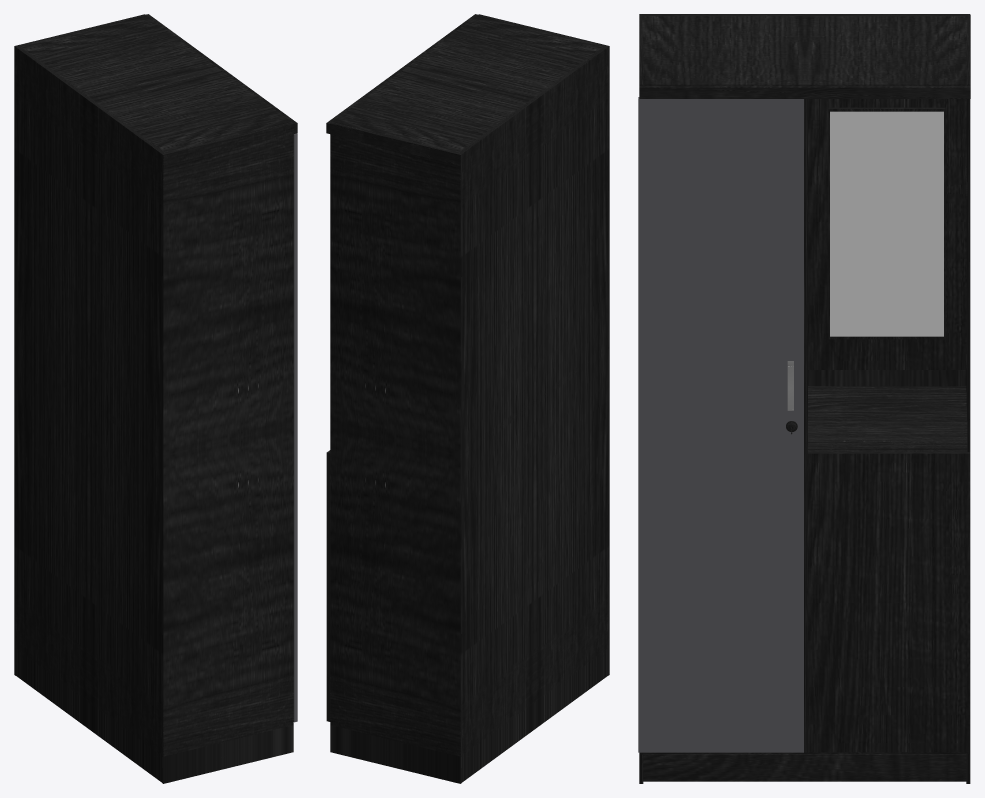
File: lemaribesar bl.fbx
3 renders of one model, left to right at view 1: azimuth 30°, elevation 25°; view 2: azimuth 150°, elevation 25°; view 3: azimuth 270°, elevation 25°, orthographic. The views are drawn at different scales.
Visible parts, largest first — view 1: Cube.001, Cube.010, Cube.002; view 2: Cube.001, Cube.002, Cube.011; view 3: Cube.010, Cube.011, Cube.001, kaca, Cube.005, Cube.007, Cube, Cube.002, Cube.003.
Boxes of the visible parts, box(x1,y1,x2,y2) form: Cube.001: box(14, 14, 293, 783); Cube.010: box(293, 133, 297, 722); Cube.002: box(146, 14, 297, 133); Cube.001: box(330, 14, 609, 783); Cube.002: box(326, 14, 477, 165); Cube.011: box(326, 450, 330, 721); Cube.010: box(638, 97, 803, 752); Cube.011: box(808, 452, 970, 752); Cube.001: box(639, 14, 970, 783); kaca: box(828, 107, 945, 339); Cube.005: box(808, 99, 966, 369); Cube.007: box(808, 386, 967, 451); Cube: box(643, 754, 966, 781); Cube.002: box(639, 15, 970, 98); Cube.003: box(804, 99, 807, 752).
Bounding box in the file's own units: 45.25 × 184 × 79.2.
Materials: 6 (2 with a texture image).
